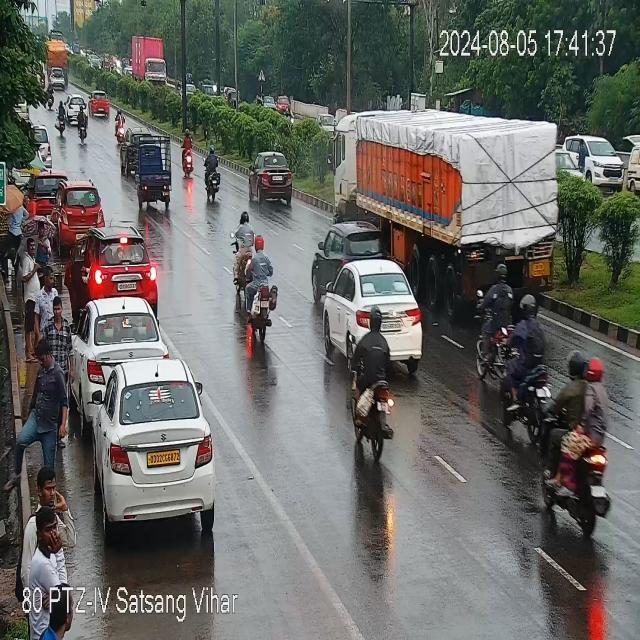2-wheelers: (530, 349, 618, 537), (484, 286, 552, 436), (343, 301, 395, 459), (473, 265, 522, 375), (236, 239, 282, 340), (222, 210, 260, 283), (203, 147, 225, 202), (180, 131, 199, 177), (56, 103, 70, 136), (74, 108, 88, 140), (114, 105, 123, 144)
auto: (133, 137, 173, 208)
car: (92, 358, 216, 526), (315, 255, 426, 359), (73, 296, 160, 398), (84, 223, 160, 300), (560, 133, 632, 194), (318, 223, 386, 278), (55, 180, 102, 238), (248, 154, 294, 205), (120, 124, 150, 176), (37, 168, 71, 211), (628, 136, 640, 192), (90, 91, 114, 119), (68, 94, 84, 117)
pedestrian: (15, 336, 70, 479), (44, 296, 78, 380), (30, 507, 66, 580), (27, 462, 76, 506), (23, 238, 40, 356), (4, 196, 28, 270), (38, 263, 58, 335), (36, 220, 50, 262), (25, 188, 35, 218)
truck: (334, 101, 570, 285), (131, 33, 169, 84)
